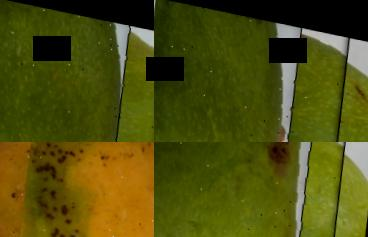Ripe: (0, 142, 154, 237)
Unripe: (154, 0, 356, 142), (0, 0, 154, 142), (154, 142, 353, 237)
